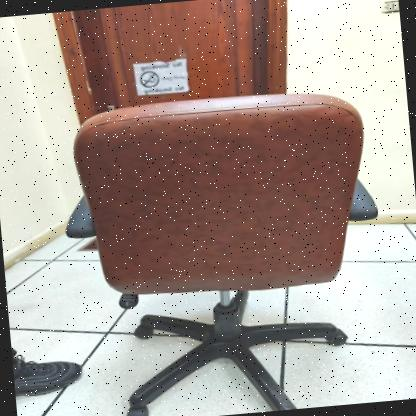chair: (55, 74, 394, 416)
